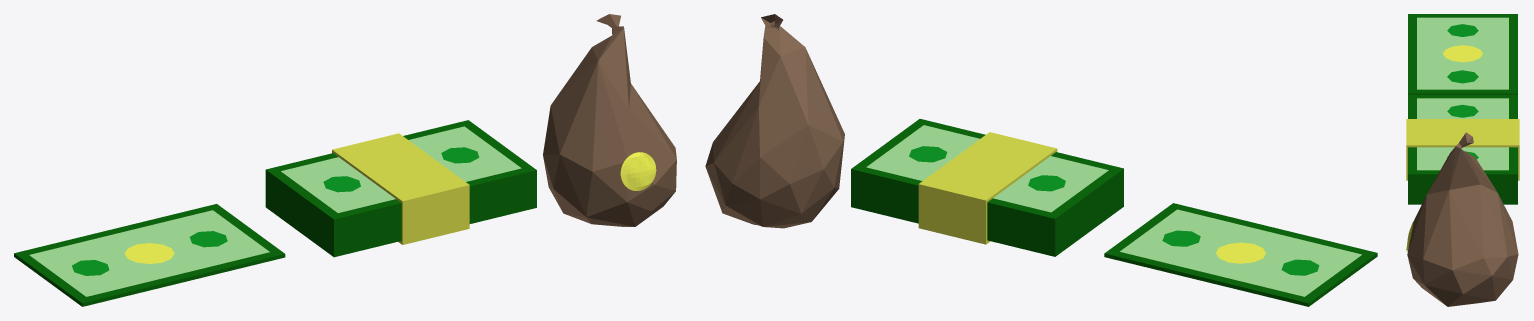
Rendered from supporter.fbx.
3 renders of one model, left to right at view 1: azimuth 30°, elevation 25°; view 2: azimuth 150°, elevation 25°; view 3: azimuth 270°, elevation 25°, orthographic. The views are drawn at different scales.
Visible parts, largest first — view 1: Supporter_2, Supporter_3, Supporter_1; view 2: Supporter_2, Supporter_3, Supporter_1; view 3: Supporter_3, Supporter_2, Supporter_1.
Boxes of the visible parts, x1,y1,x2,y2 form: Supporter_2: (265,120,536,257); Supporter_3: (543,14,676,226); Supporter_1: (14,204,285,306); Supporter_2: (851,119,1123,256); Supporter_3: (705,14,844,228); Supporter_1: (1104,203,1377,306); Supporter_3: (1406,132,1518,306); Supporter_2: (1406,94,1519,204); Supporter_1: (1408,14,1517,94).
Size of the model in its own units: 1049 by 336 by 207.
